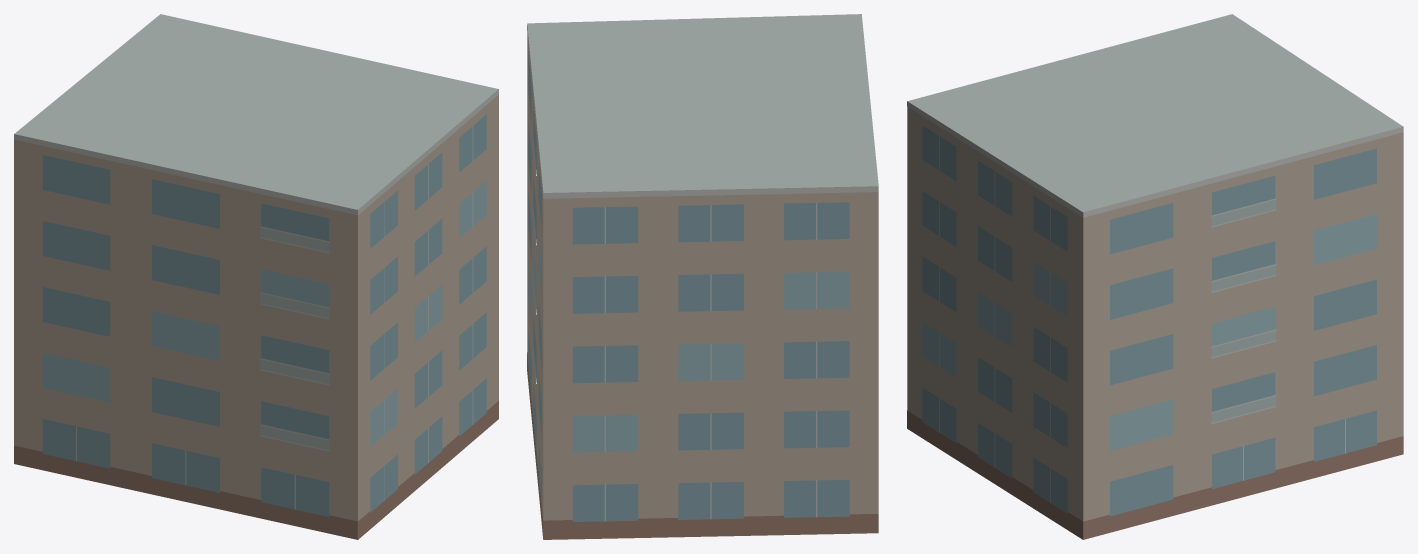
The model's file is survey-upis-32775785.glb.
3 renders of one model, left to right at view 1: azimuth 30°, elevation 25°; view 2: azimuth 150°, elevation 25°; view 3: azimuth 270°, elevation 25°, orthographic. The views are drawn at different scales.
Parts seen in each view (by area): view 1: survey-upis-32775785.tmp; view 2: survey-upis-32775785.tmp; view 3: survey-upis-32775785.tmp.
Part boxes in pixels (<box>): survey-upis-32775785.tmp: <box>14,14,498,539</box>; survey-upis-32775785.tmp: <box>527,14,878,539</box>; survey-upis-32775785.tmp: <box>907,14,1403,539</box>.
Bounding box in the file's own units: 18.98 × 14.6 × 20.07.
